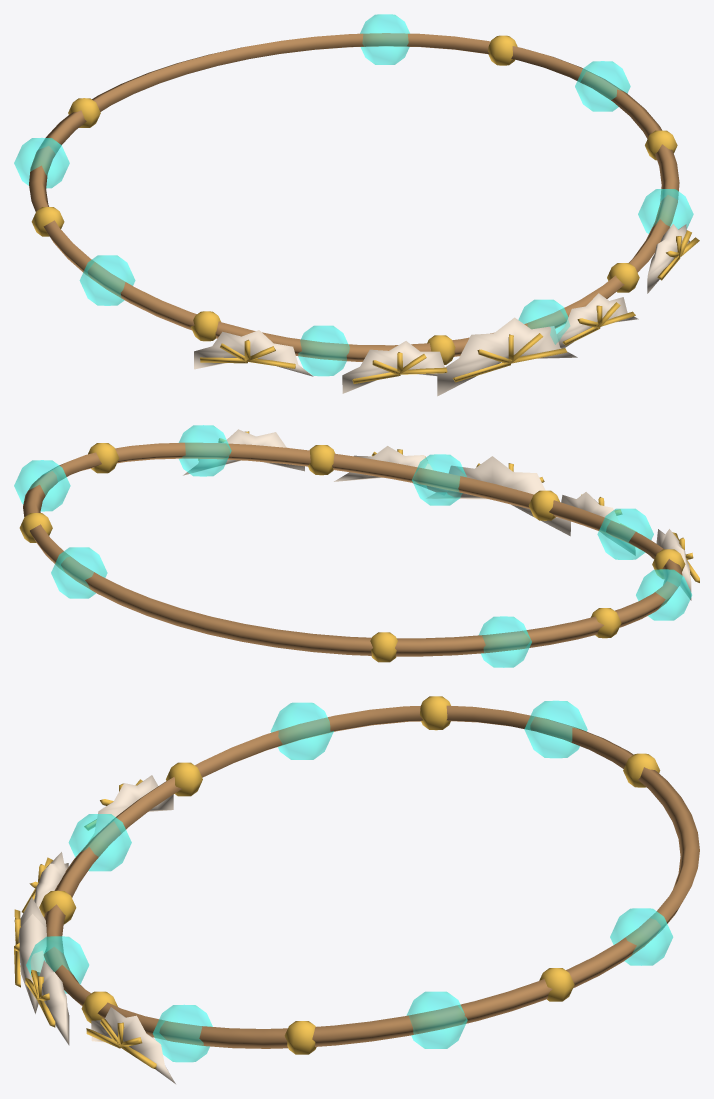
Rendered from shell_necklace.glb.
3 views of the same model, one above another, from view 1: azimuth 30°, elevation 25°; view 2: azimuth 150°, elevation 25°; view 3: azimuth 270°, elevation 25° (orthographic). The views are drawn at different scales.
Parts seen in each view (by area): view 1: shell_necklace; view 2: shell_necklace; view 3: shell_necklace.
Part boxes in pixels (x1,y1,x2,y2): shell_necklace: [14, 14, 699, 396]; shell_necklace: [14, 425, 699, 667]; shell_necklace: [14, 696, 699, 1083].
Bounding box in the file's own units: 0.0837 × 0.0178 × 0.0735.
